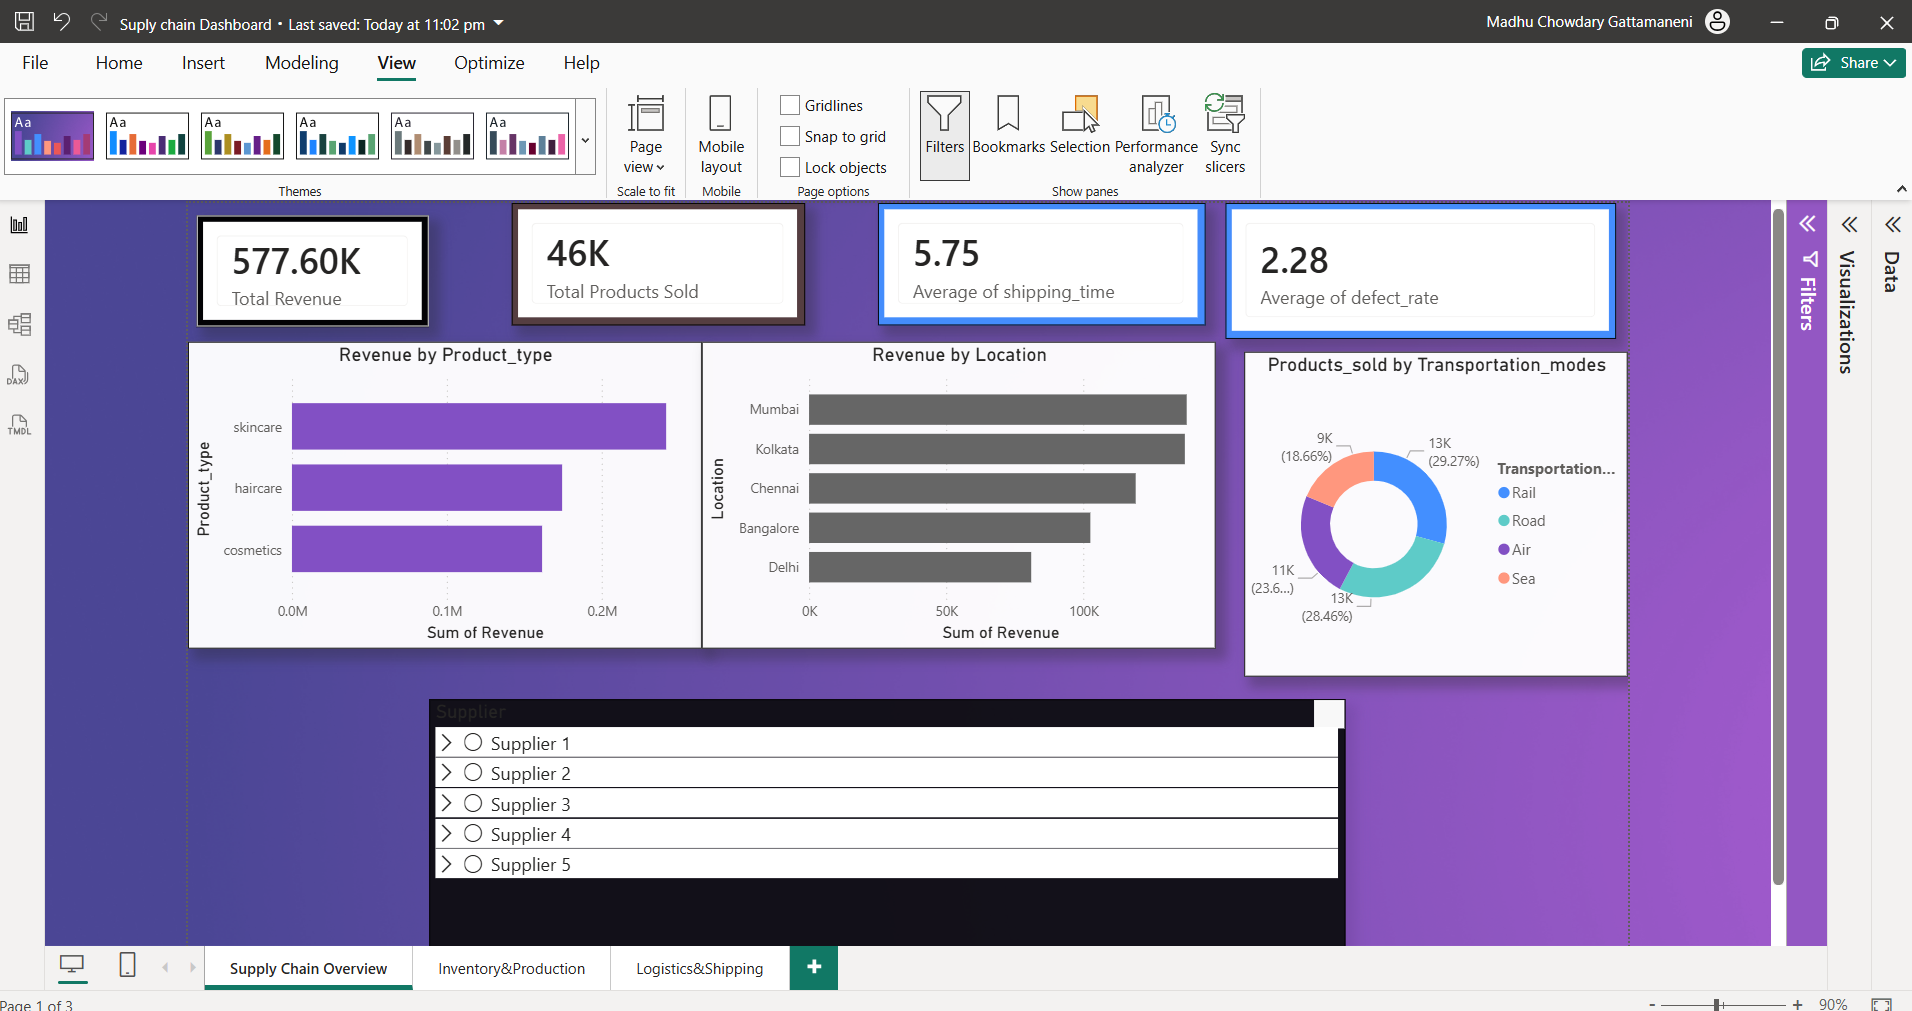

This screenshot's page, from the dashboard's own definition file:
{"tool":"powerbi","page":{"name":"Supply Chain Overview","canvas":[1280,720],"ordinal":0},"visuals":[{"type":"cardVisual","fields":{"Data":["supply_chain_data.Total Revenue"]},"box":[7.3,11,206.7,99],"z":0},{"type":"cardVisual","fields":{"Data":["supply_chain_data.Total Products Sold"]},"box":[288.2,0,260.7,108.4],"z":1},{"type":"cardVisual","fields":{"Data":["Avg(supply_chain_data.shipping_time)"]},"box":[613.4,0,290.9,108.4],"z":2},{"type":"cardVisual","fields":{"Data":["Avg(supply_chain_data.defect_rate)"]},"box":[922.1,0,347.2,120.8],"z":3},{"type":"clusteredBarChart","title":" Revenue by Product_type","fields":{"Category":["supply_chain_data.Product_type"],"Y":["Sum(supply_chain_data.Revenue)"]},"box":[0,123.5,456.9,273.1],"z":4},{"type":"barChart","title":" Revenue by Location","fields":{"Category":["supply_chain_data.Location"],"Y":["Sum(supply_chain_data.Revenue)"]},"box":[456.9,123.5,456.9,273.1],"z":5},{"type":"donutChart","title":" Products_sold by Transportation_modes","fields":{"Category":["supply_chain_data.Transportation_modes"],"Y":["Sum(supply_chain_data.products_sold)"]},"box":[939.1,132.1,341.2,288.6],"z":6},{"type":"listSlicer","fields":{"Values":["supply_chain_data.Supplier","supply_chain_data.Product_type","supply_chain_data.Transportation_modes","supply_chain_data.Location"]},"box":[214,441.4,814.4,247],"z":8}]}

Visuals, with their boxes on the page's 1280x720 design canvas (x1, y1, x2, y2). These are canvas units, not pixel positions in the 1912x1011 screenshot, which may show the page scaled, cropped or inside an application window:
cardVisual - supply_chain_data.Total Revenue: x1=7 y1=11 x2=214 y2=110
cardVisual - supply_chain_data.Total Products Sold: x1=288 y1=0 x2=549 y2=108
cardVisual - Avg(supply_chain_data.shipping_time): x1=613 y1=0 x2=904 y2=108
cardVisual - Avg(supply_chain_data.defect_rate): x1=922 y1=0 x2=1269 y2=121
" Revenue by Product_type" clusteredBarChart: x1=0 y1=124 x2=457 y2=397
" Revenue by Location" barChart: x1=457 y1=124 x2=914 y2=397
" Products_sold by Transportation_modes" donutChart: x1=939 y1=132 x2=1280 y2=421
listSlicer - supply_chain_data.Supplier x supply_chain_data.Product_type: x1=214 y1=441 x2=1028 y2=688
